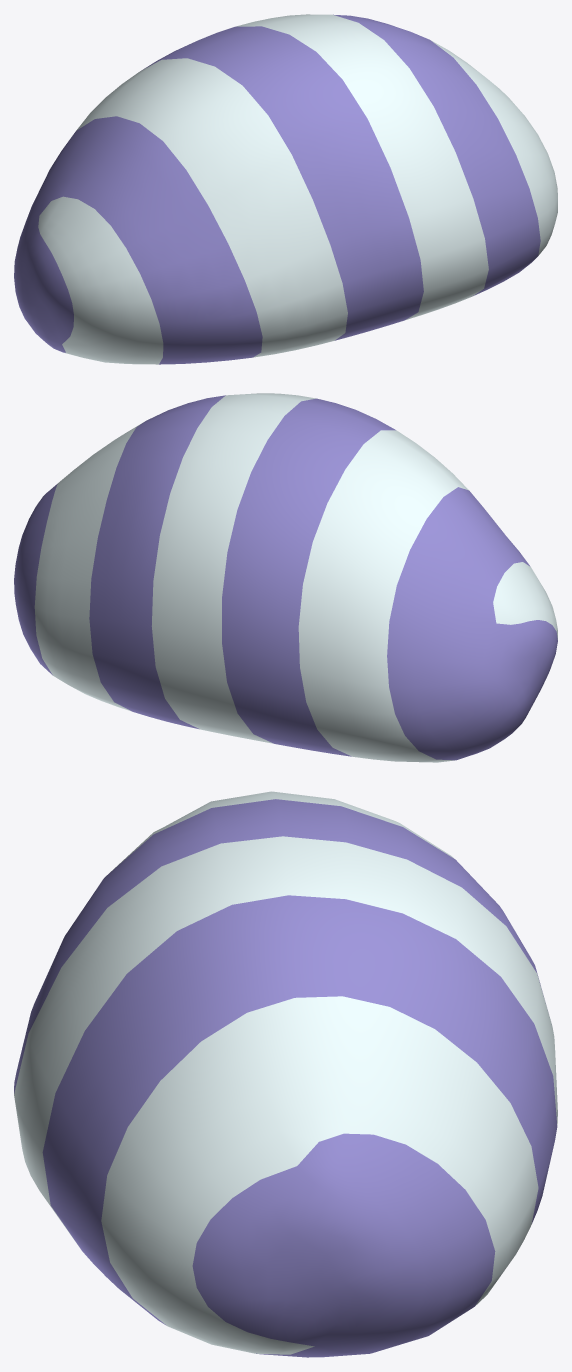
File: CandyPlant_C_01.fbx
The picture shows the model from 3 angles, top to bottom: view 1: azimuth 30°, elevation 25°; view 2: azimuth 150°, elevation 25°; view 3: azimuth 270°, elevation 25°; orthographic projection. The views are drawn at different scales.
Visible parts, largest first — view 1: CandyPlant_C_01_LOD0; view 2: CandyPlant_C_01_LOD0; view 3: CandyPlant_C_01_LOD0.
Boxes of the visible parts, x1=… form: CandyPlant_C_01_LOD0: x1=14, y1=14, x2=557, y2=364; CandyPlant_C_01_LOD0: x1=14, y1=393, x2=557, y2=762; CandyPlant_C_01_LOD0: x1=14, y1=791, x2=557, y2=1357.
Size of what is drawn, in the model's own units: 682 by 370 by 452.
